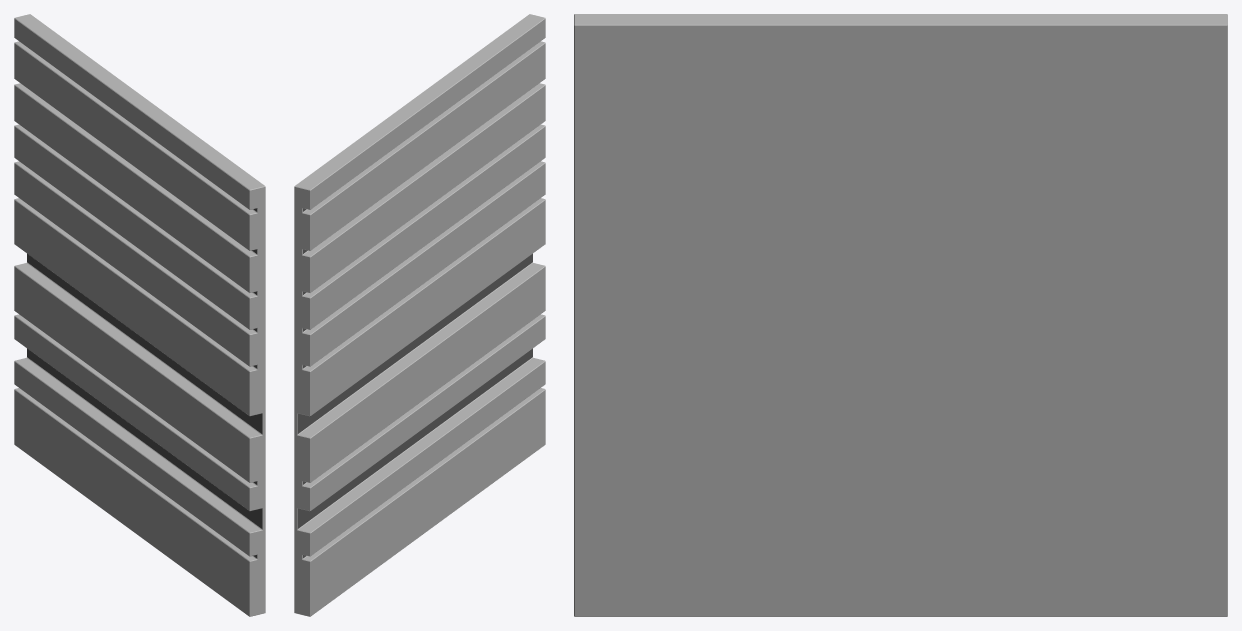
File: Wall.glb
3 renders of one model, left to right at view 1: azimuth 30°, elevation 25°; view 2: azimuth 150°, elevation 25°; view 3: azimuth 270°, elevation 25°, orthographic. The views are drawn at different scales.
Parts seen in each view (by area): view 1: Wall; view 2: Wall; view 3: Wall.
Part boxes in pixels (left/top/right/bottom): Wall: left=14, top=14, right=265, bottom=616; Wall: left=294, top=14, right=545, bottom=616; Wall: left=574, top=14, right=1227, bottom=616.
Size of what is drawn, in the model's own units: 0.1627 by 4 by 4.
Materials: 1 (1 with a texture image).
